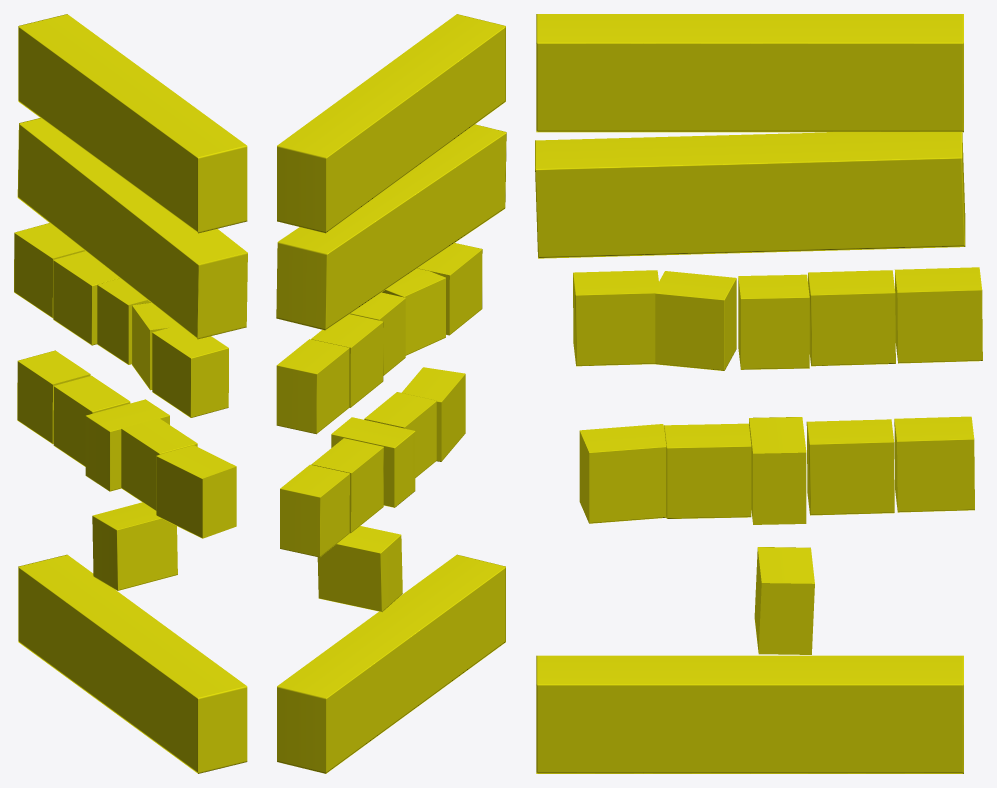
The model's file is Bookcase_02B_Lod0.fbx.
3 views of the same model, side by side, from view 1: azimuth 30°, elevation 25°; view 2: azimuth 150°, elevation 25°; view 3: azimuth 270°, elevation 25° (orthographic). The views are drawn at different scales.
Visible parts, largest first — view 1: Bookcase_02B_Lod0; view 2: Bookcase_02B_Lod0; view 3: Bookcase_02B_Lod0.
Boxes of the visible parts, <box> form: Bookcase_02B_Lod0: <box>14,14,247,773</box>; Bookcase_02B_Lod0: <box>276,14,506,773</box>; Bookcase_02B_Lod0: <box>535,14,982,773</box>.
Bounding box in the file's own units: 32.34 × 257 × 143.
